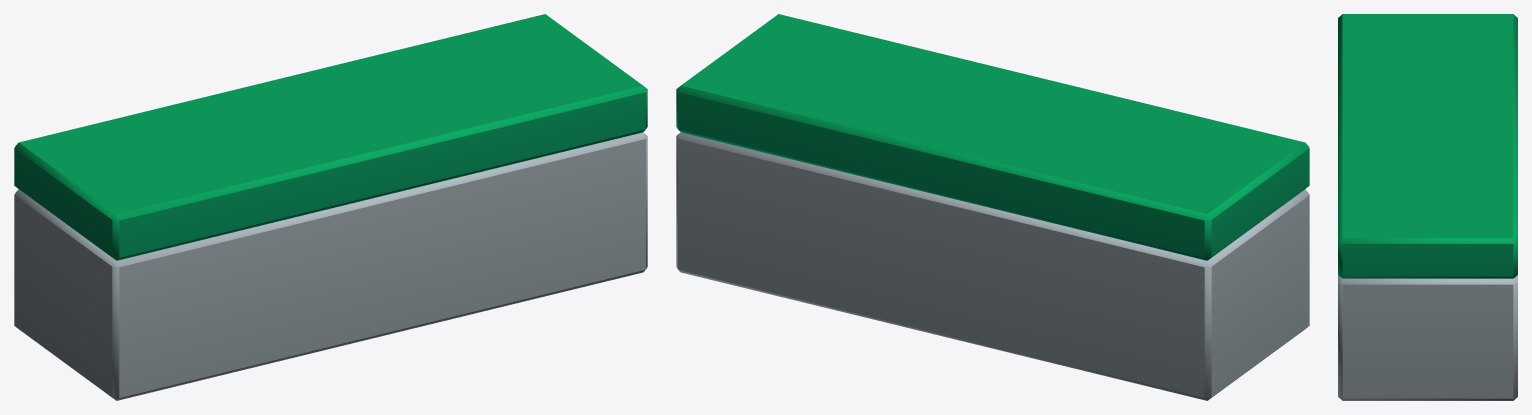
Rendered from platform_6x2x2_green.glb.
3 views of the same model, side by side, from view 1: azimuth 30°, elevation 25°; view 2: azimuth 150°, elevation 25°; view 3: azimuth 270°, elevation 25° (orthographic). The views are drawn at different scales.
Visible parts, largest first — view 1: platform_6x2x2_green; view 2: platform_6x2x2_green; view 3: platform_6x2x2_green.
Boxes of the visible parts, bbox=[...] form: platform_6x2x2_green: bbox=[14, 14, 647, 400]; platform_6x2x2_green: bbox=[676, 14, 1309, 400]; platform_6x2x2_green: bbox=[1338, 14, 1517, 400].
Size of the model in its own units: 6 by 2 by 2.
Materials: 1 (1 with a texture image).
